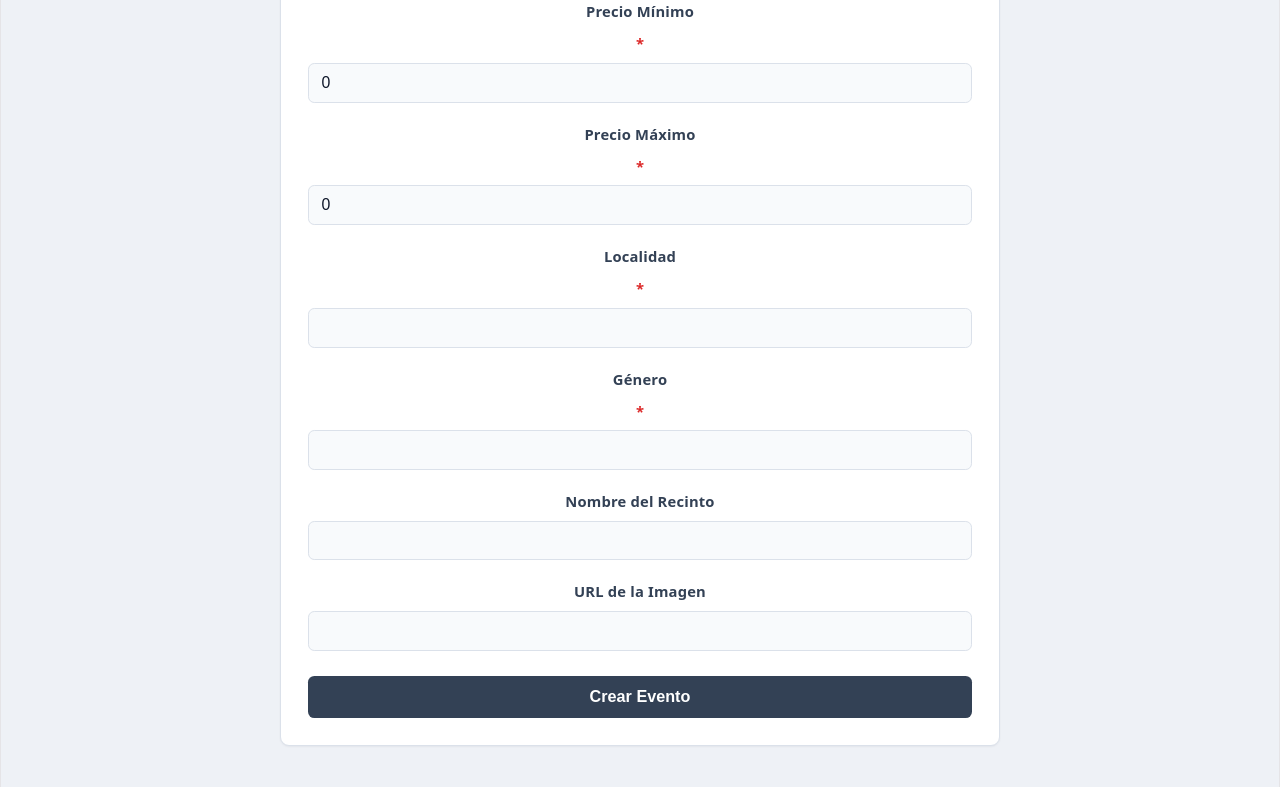
Test case: EventFormComponent › 2. No se permite crear un evento con campos obligatorios vacíos
(page scrolled)
Click the button "Crear Evento".
click(640, 697)  # box [308, 676, 972, 718]
(page scrolled)
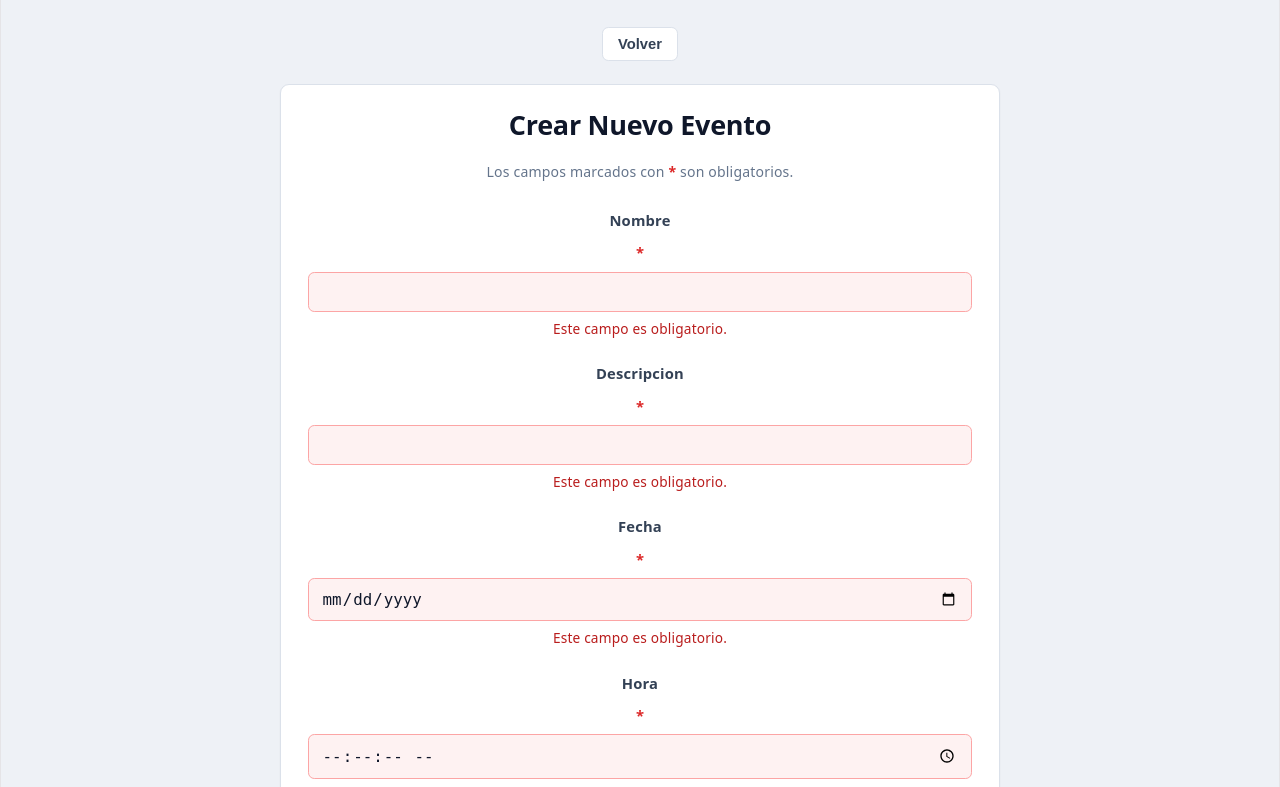
Expected: the 1st text "Este campo es obligatorio." is shown, [553, 319, 727, 338]
